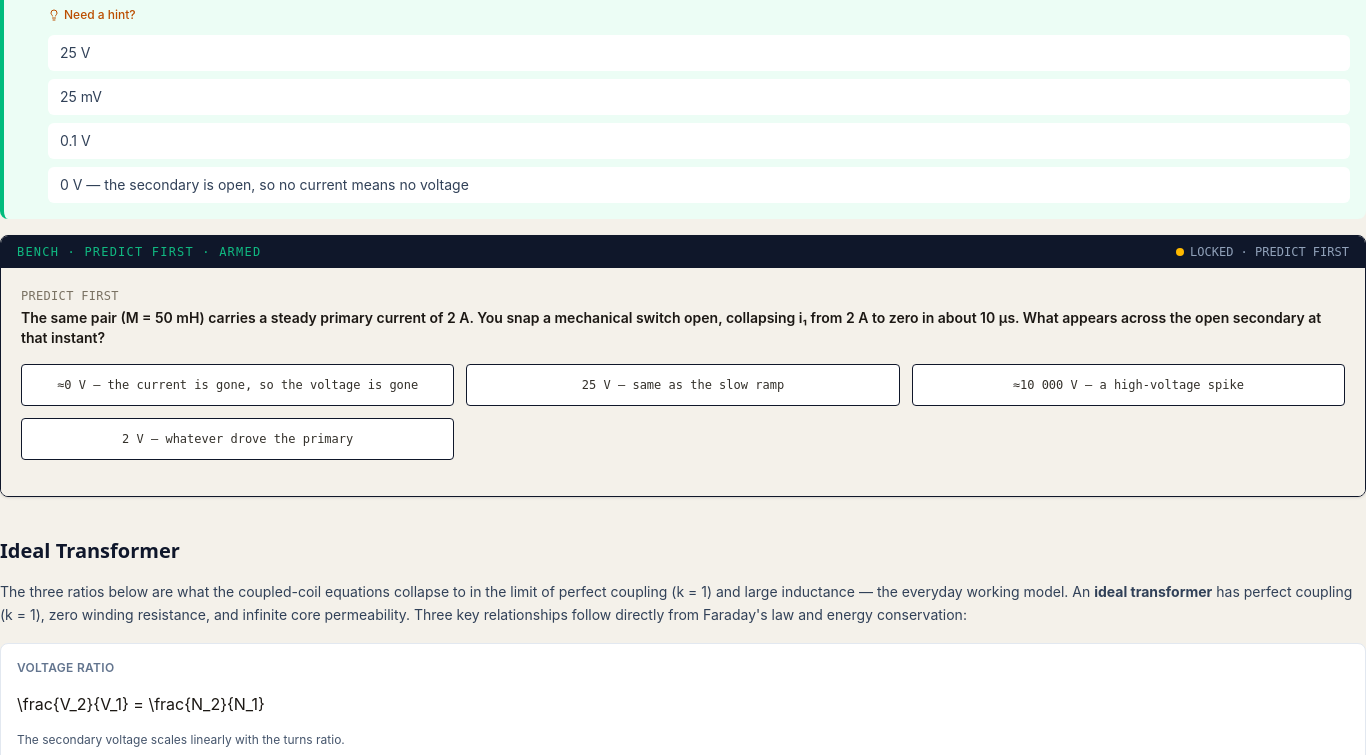
Test case: Transformers — section 3.4 page (mutual-inductance extension) › reveals the flyback card after a committed prediction
(page scrolled)
Step 1. Click the button "≈10 000 V — a high-voltage spike" → x=1128, y=385, box [912, 364, 1345, 406]
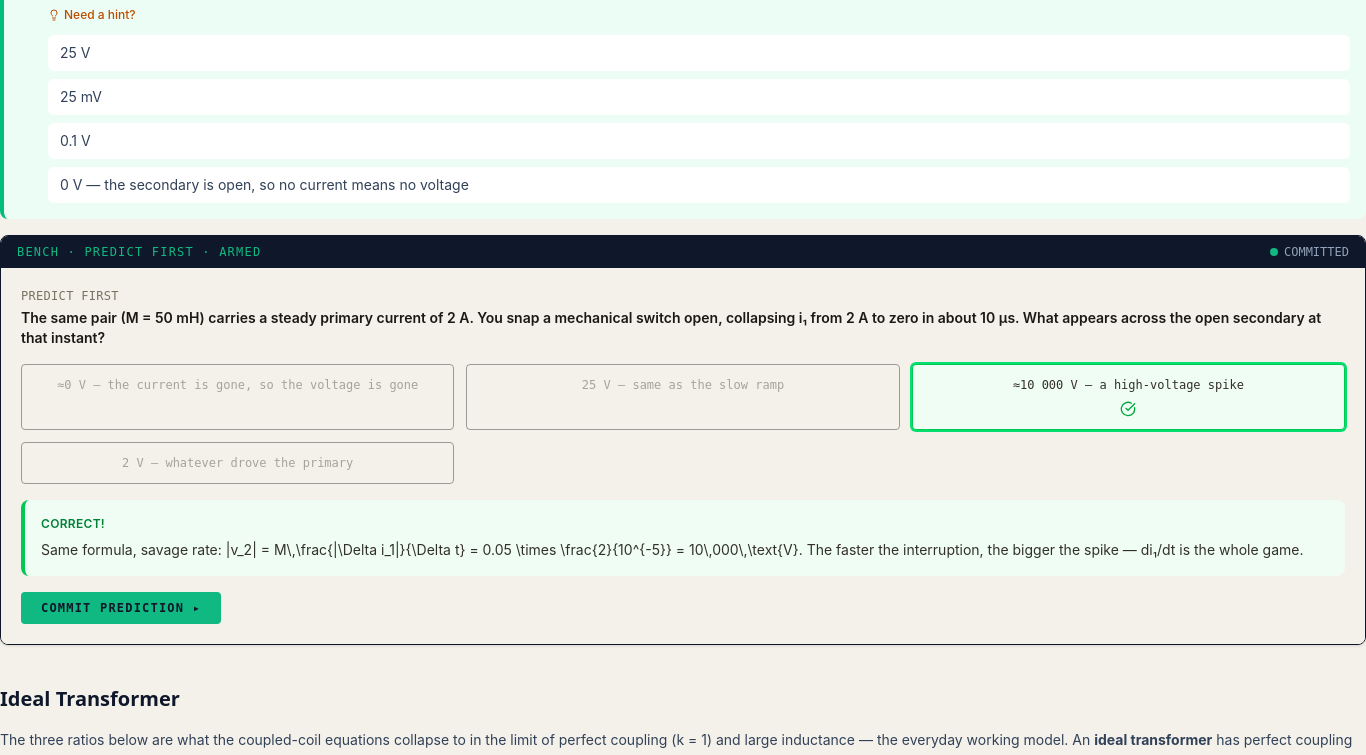
Now the text "Correct!" is shown, box [41, 516, 105, 531]
Step 2. Click the button "COMMIT PREDICTION ▸" → x=121, y=608, box [21, 592, 221, 624]
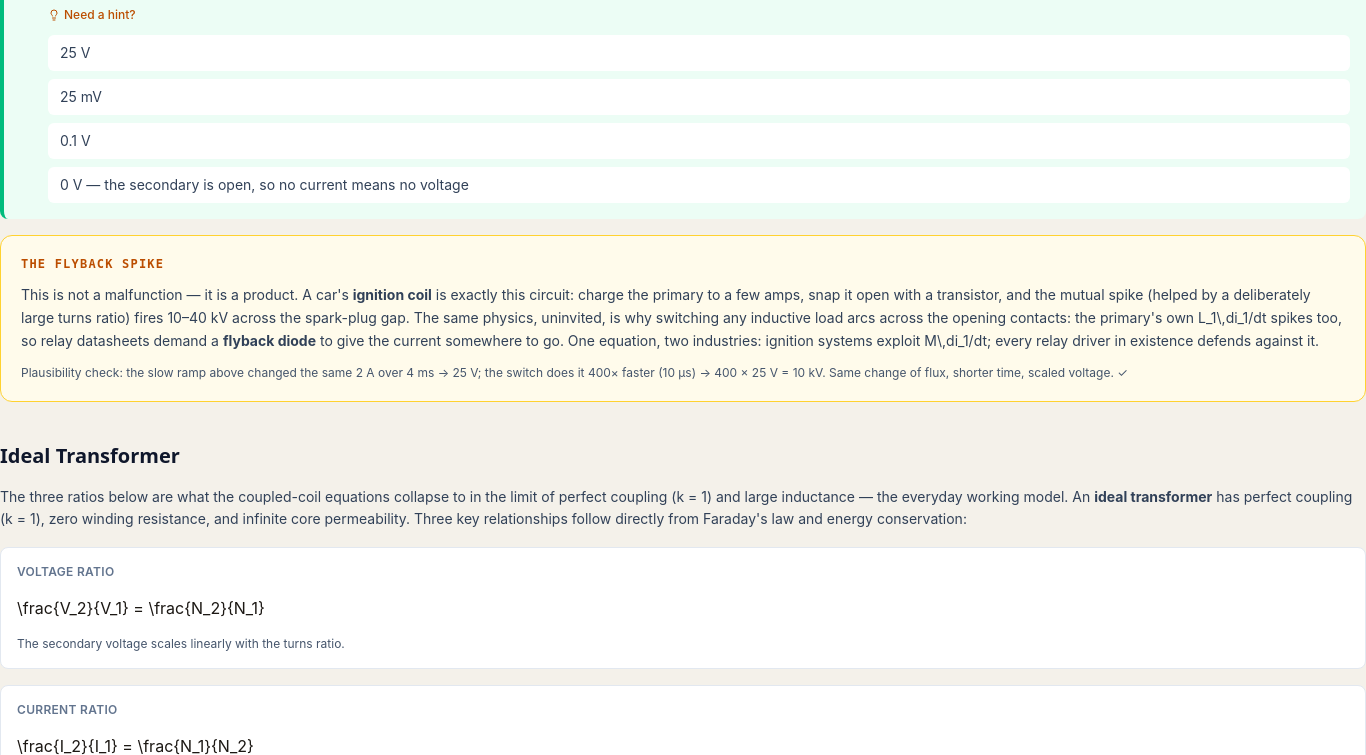
Now the text "The Flyback Spike" is shown, box [21, 257, 164, 271]
Now the text "ignition coil" is shown, box [353, 286, 432, 303]
